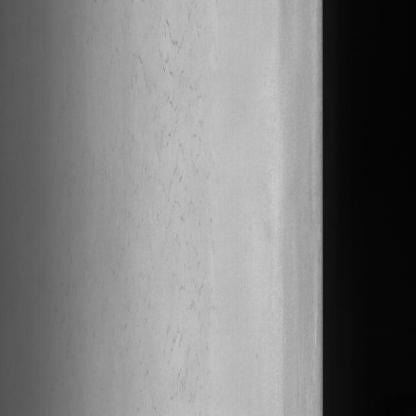silk_spot: (142, 0, 219, 398)
